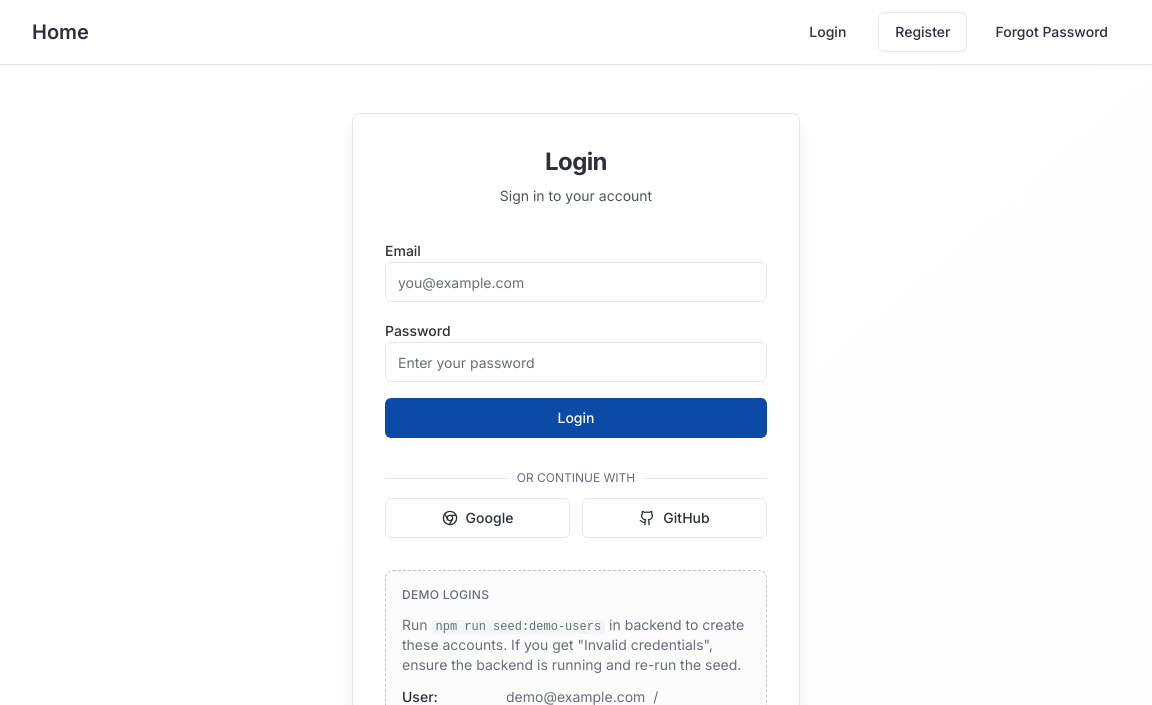
Login Page › should validate email format
This screenshot has width=1152, height=705.
// Type invalid email
Step 1. Type "invalid-email" into the field labelled "Email" → point(576, 282), box [385,262,767,302]
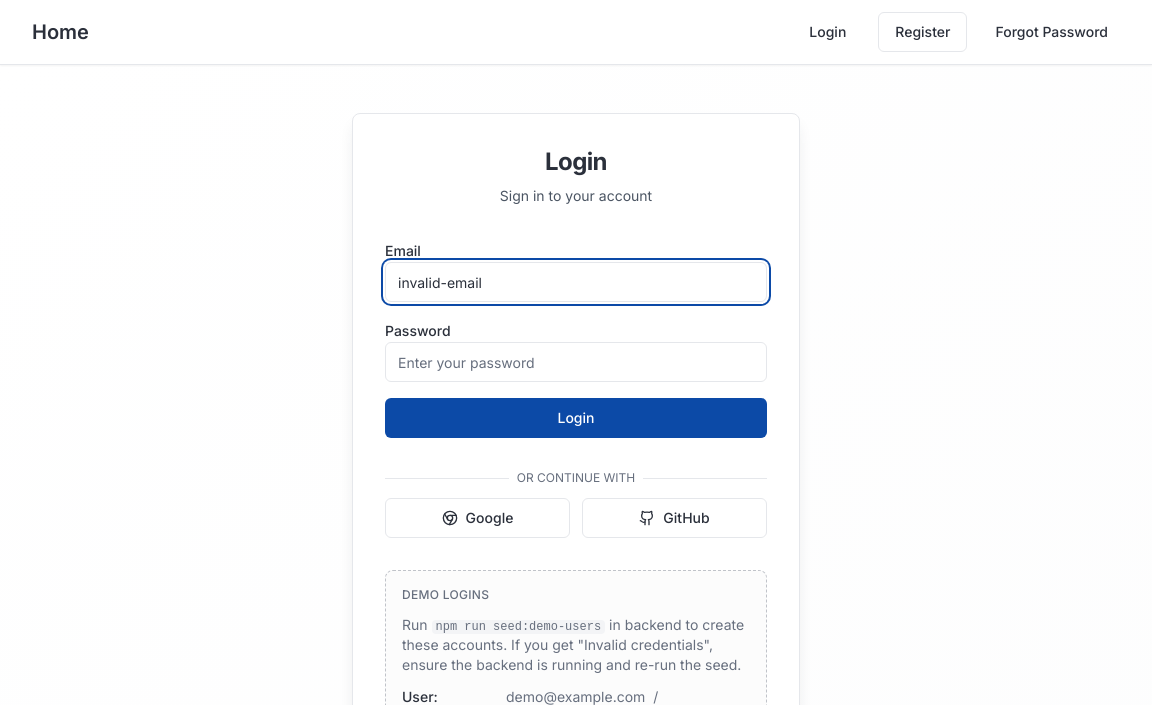
Step 2. Submit the form labelled "Email Password Login", box [385,238,767,438]
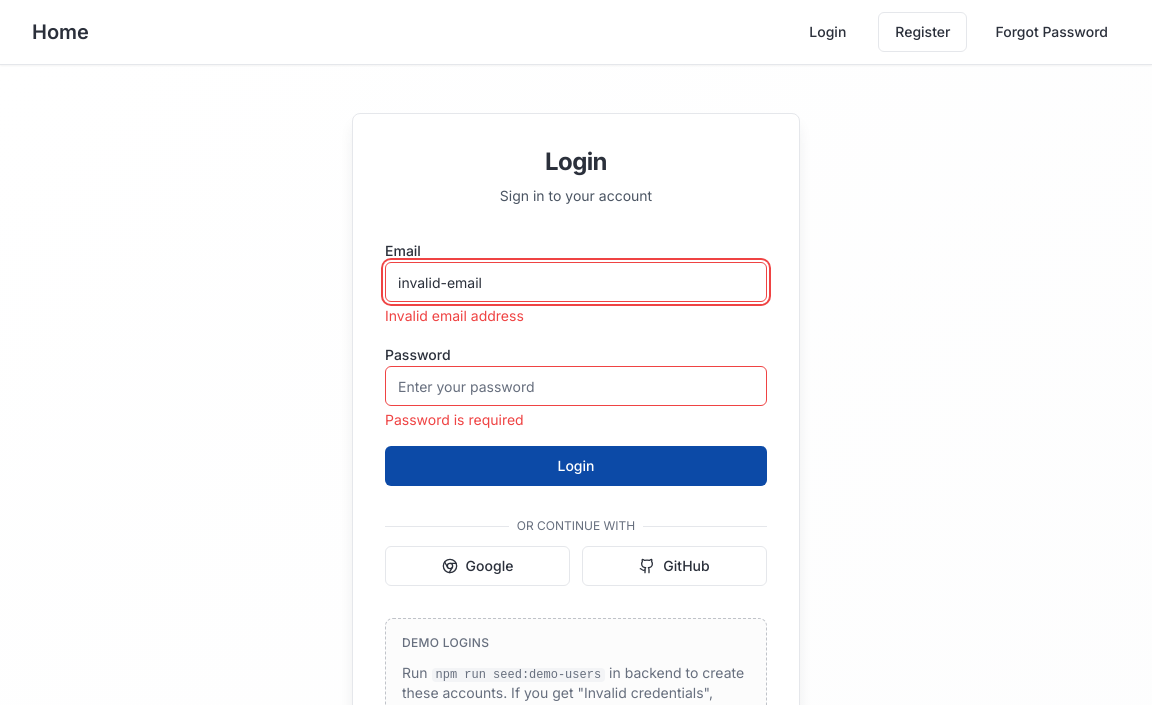
Expected: the text with test id "email-error" reads "Invalid email address", [385,307,524,324]
